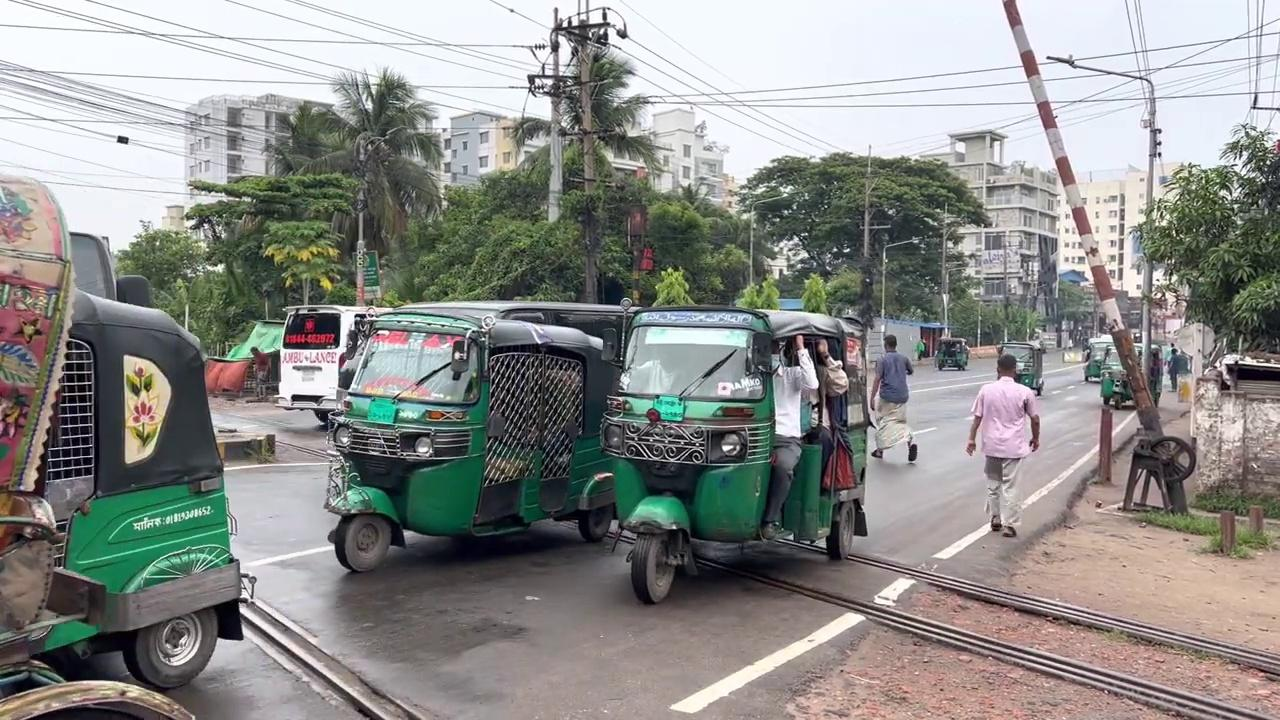Car: (237, 592, 421, 718)
Fence: (965, 353, 1040, 537), (759, 333, 819, 540), (869, 334, 917, 462)
Garbage: (1001, 0, 1164, 436), (880, 236, 921, 352)
Railroad-crossing: (261, 64, 446, 304), (502, 38, 669, 303)
Rickshaw: (0, 173, 257, 705), (600, 300, 872, 602), (274, 303, 392, 427), (1083, 334, 1114, 382), (935, 337, 969, 371)
